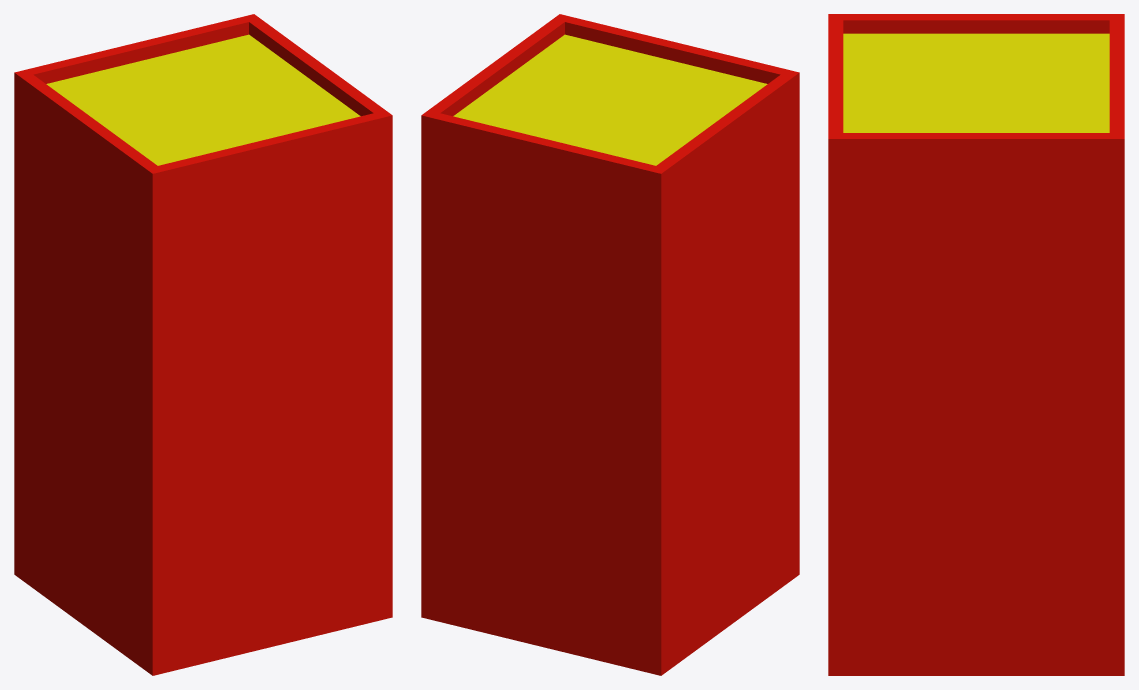
File: Cup.fbx
3 views of the same model, side by side, from view 1: azimuth 30°, elevation 25°; view 2: azimuth 150°, elevation 25°; view 3: azimuth 270°, elevation 25° (orthographic). The views are drawn at different scales.
Parts seen in each view (by area): view 1: Cup; view 2: Cup; view 3: Cup.
Part boxes in pixels (<box>): Cup: <box>14,14,392,675</box>; Cup: <box>421,14,799,675</box>; Cup: <box>828,14,1124,675</box>.
Bounding box in the file's own units: 200 × 200 × 400.
